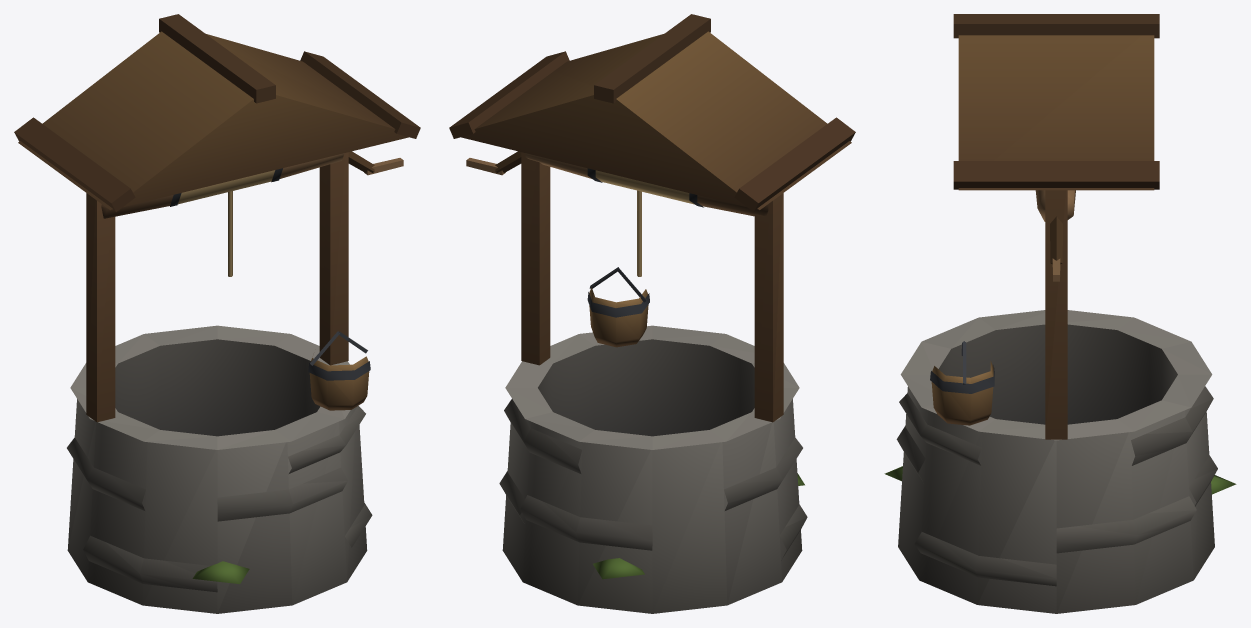
Rendered from village-well.glb.
3 views of the same model, side by side, from view 1: azimuth 30°, elevation 25°; view 2: azimuth 150°, elevation 25°; view 3: azimuth 270°, elevation 25° (orthographic). The views are drawn at different scales.
Parts seen in each view (by area): view 1: village_well; view 2: village_well; view 3: village_well.
Boxes of the visible parts, left/top/right/bottom form: village_well: left=14, top=14, right=420, bottom=613; village_well: left=449, top=14, right=855, bottom=613; village_well: left=884, top=14, right=1236, bottom=613.
Bounding box in the file's own units: 1.57 × 2.2 × 1.33.
